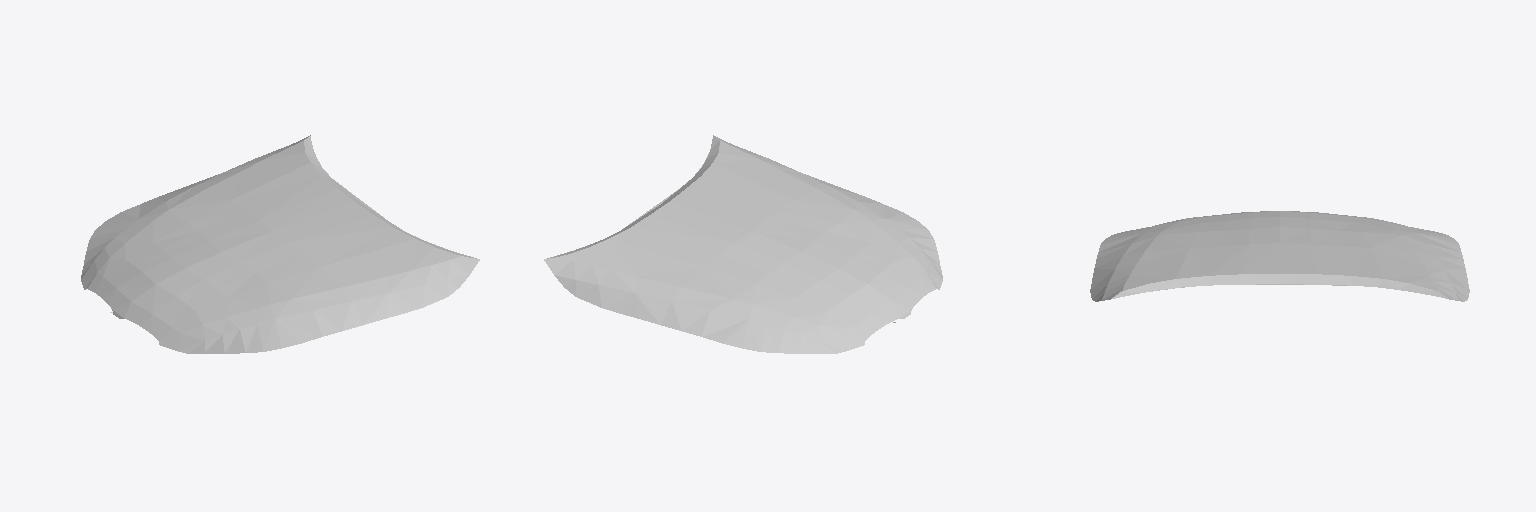
The model's file is Cofre_CarroPrevio_M_Obj.obj.
3 renders of one model, left to right at view 1: azimuth 30°, elevation 25°; view 2: azimuth 150°, elevation 25°; view 3: azimuth 270°, elevation 25°, orthographic.
Visible parts, largest first — view 1: Cofre; view 2: Cofre; view 3: Cofre.
Part boxes in pixels (x1,y1,x2,y2): Cofre: (81,135,479,353); Cofre: (544,135,942,353); Cofre: (1090,211,1469,301).
Size of the model in its own units: 10.71 by 2.22 by 12.62.